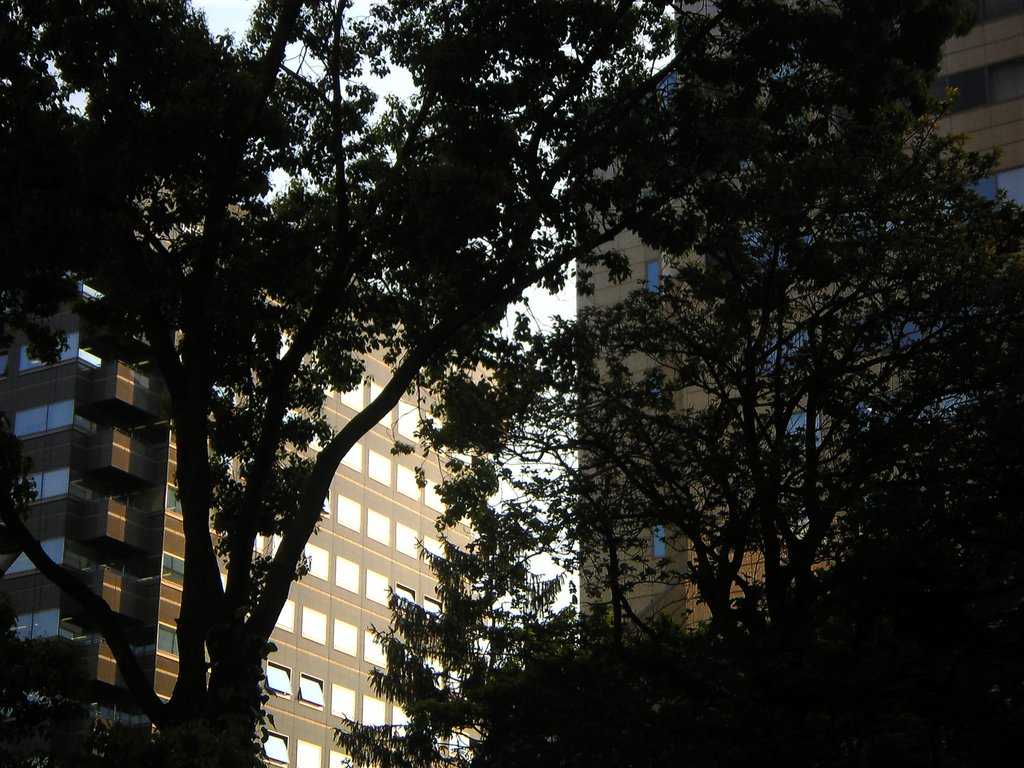Tree: (1, 0, 1023, 767)
